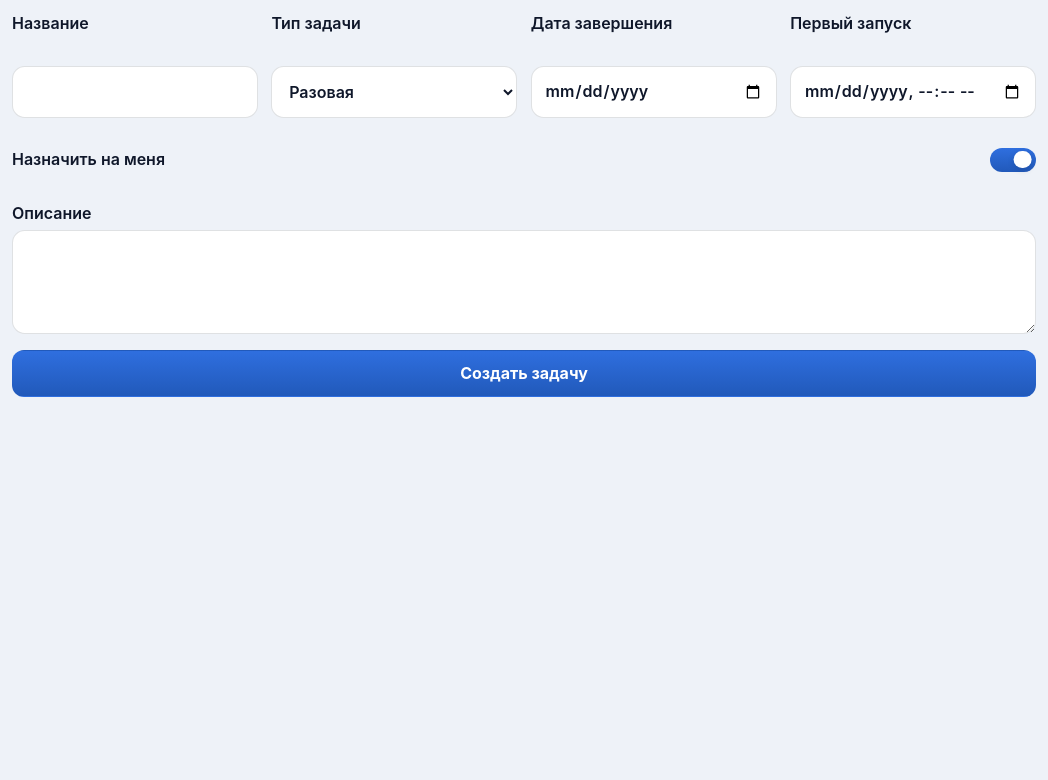
Scenario: TaskForm › enables specific date fields for recurring tasks
This screenshot has width=1048, height=780.
Select "Регулярная" in the dropdown labelled "Тип задачи": (394, 92) x1=271 y1=66 x2=517 y2=118
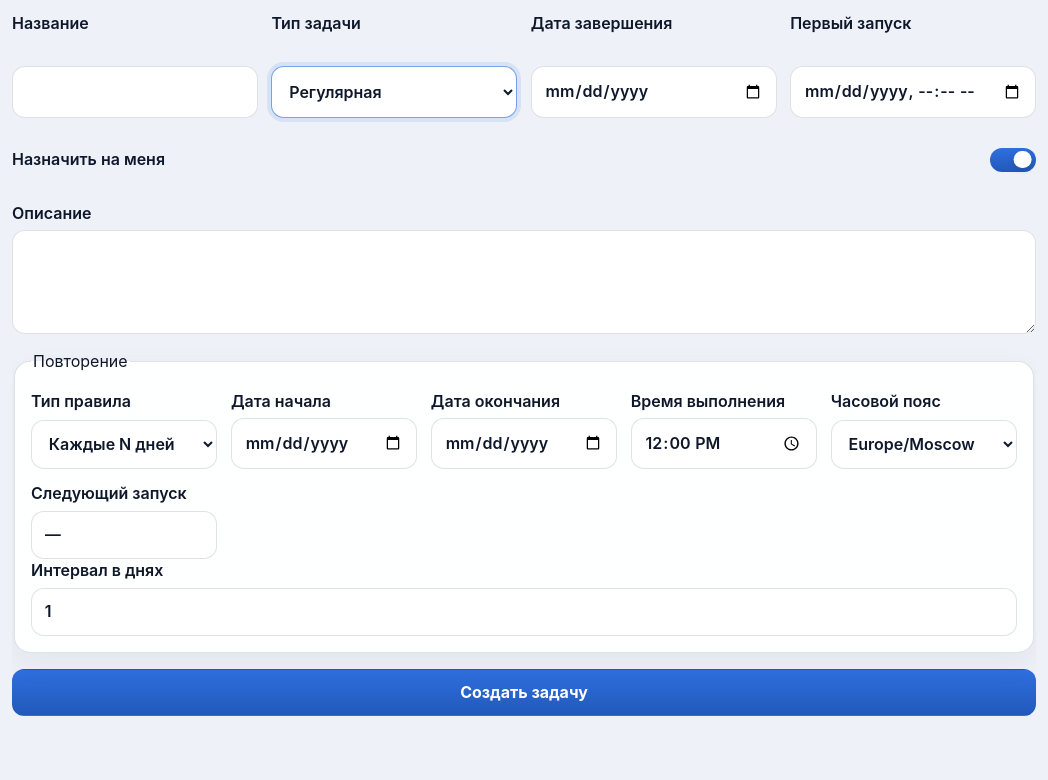
Select "Конкретные даты" in the dropdown labelled "Тип правила": (124, 444) x1=31 y1=420 x2=217 y2=468
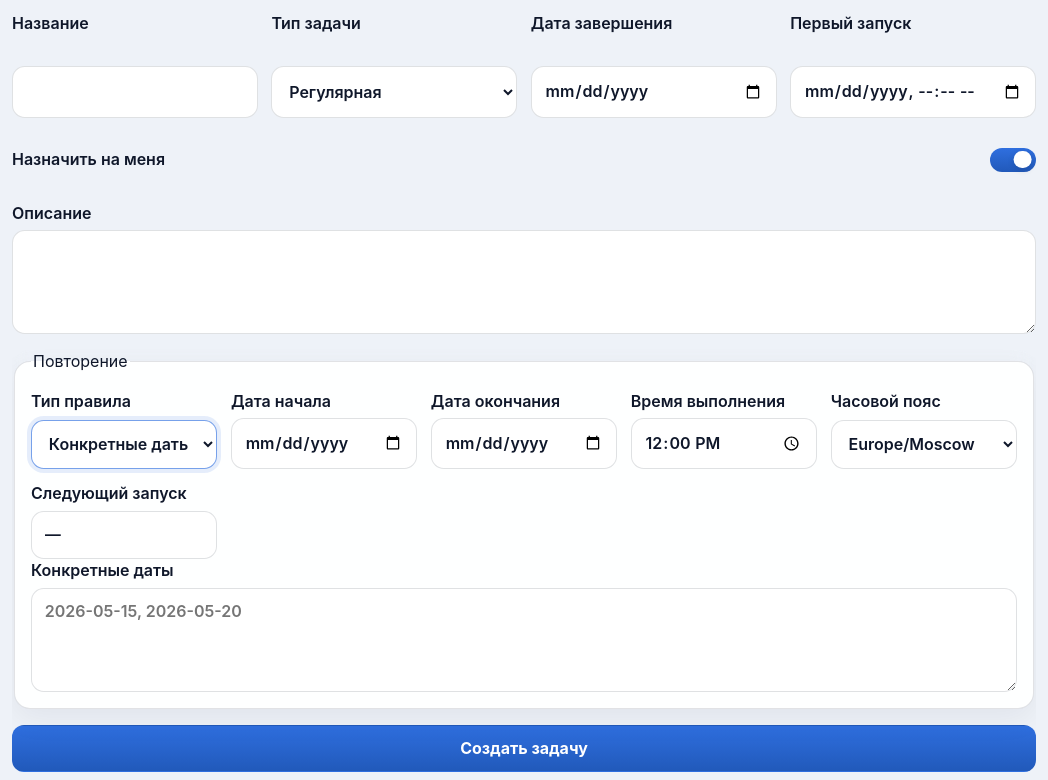
Check: the field labelled "Следующий запуск" holds "—", box x1=31 y1=511 x2=217 y2=559
Check: the text box labelled "Конкретные даты" is shown, box x1=31 y1=588 x2=1017 y2=692
